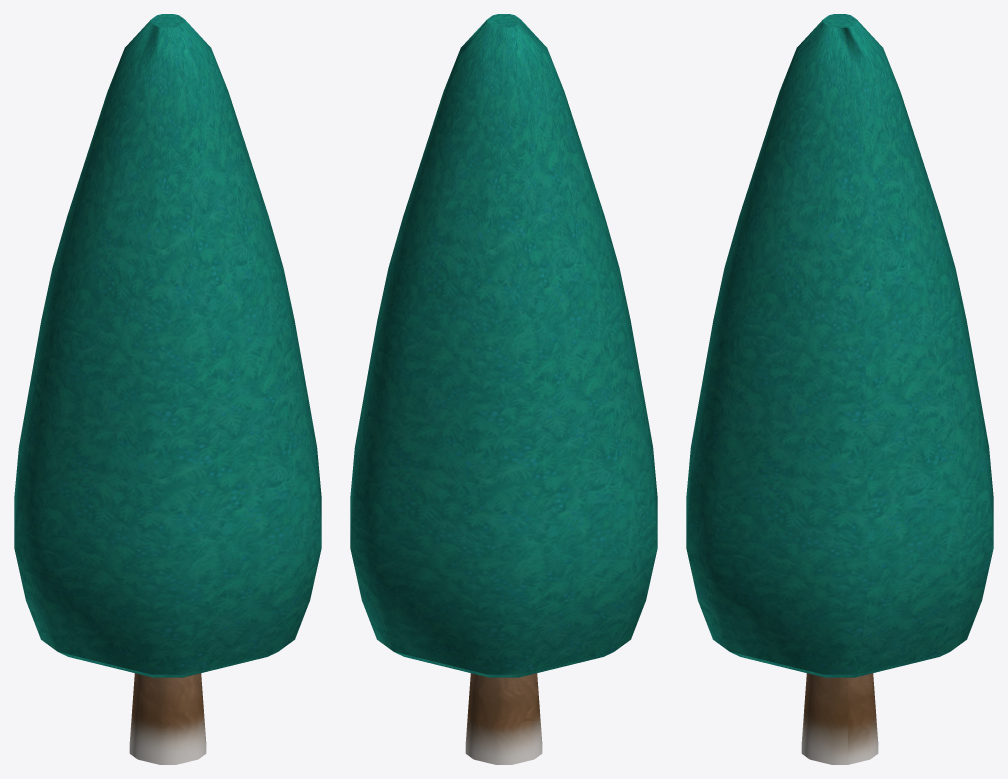
Rendered from Tree02_LL.FBX.
The picture shows the model from 3 angles, left to right: view 1: azimuth 30°, elevation 25°; view 2: azimuth 150°, elevation 25°; view 3: azimuth 270°, elevation 25°; orthographic projection.
Visible parts, largest first — view 1: Cylinder008; view 2: Cylinder008; view 3: Cylinder008.
Boxes of the visible parts, <box> form: Cylinder008: <box>14,14,321,764</box>; Cylinder008: <box>350,14,657,764</box>; Cylinder008: <box>686,14,993,764</box>.
Size of the model in its own units: 151 by 374 by 143.
